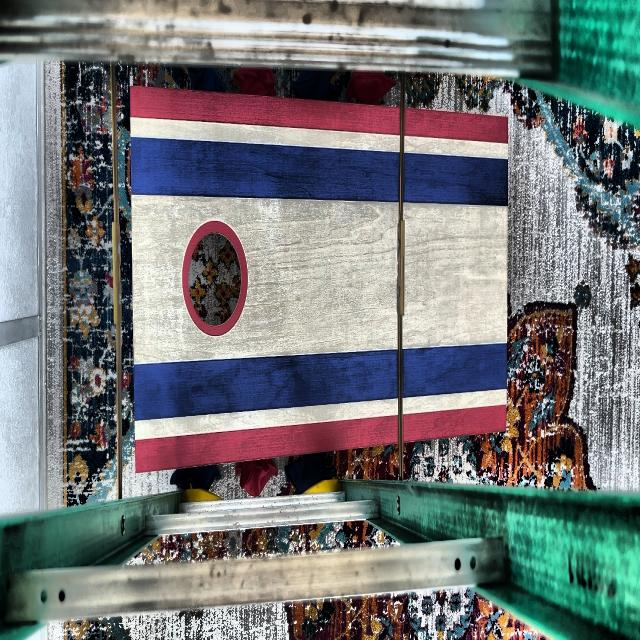blue-bean-bag: (284, 455, 334, 493), (169, 466, 221, 491), (294, 74, 341, 100), (187, 67, 226, 90)
board: (134, 118, 506, 430)
hole: (182, 220, 248, 336)
red-bean-bag: (346, 73, 396, 104), (234, 462, 278, 496), (235, 69, 276, 96)
